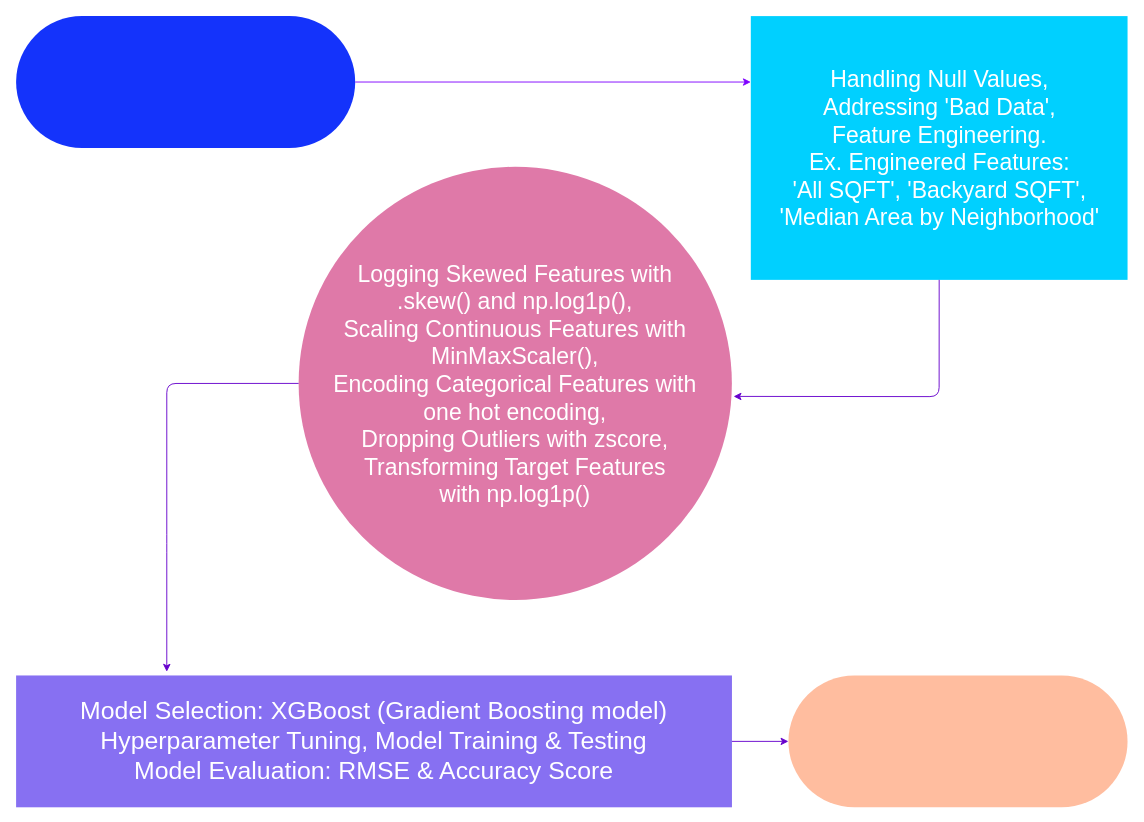
Image size: 1144x822. Some labels were removed from this diagram. Here are the shapes that lost their labels. From the top down, the centre of each, then its label:
At point 185,81: "Reading Train & Test Data, Data Exploration".
At point 957,741: "Final Predictions, Implementation".
